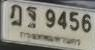letters: (10, 5, 22, 26), (26, 7, 36, 28), (69, 11, 79, 31), (46, 9, 56, 27), (58, 11, 67, 29), (82, 14, 91, 32)
province: (20, 32, 80, 45)
